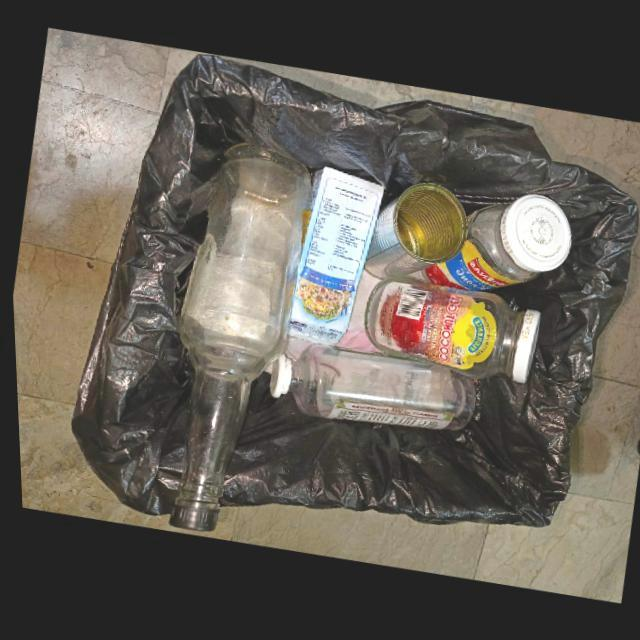aluminum: (360, 184, 465, 279)
glass_bottle: (164, 147, 310, 531), (361, 277, 538, 384), (420, 195, 569, 292)
plastic_bottle: (264, 346, 472, 431)
